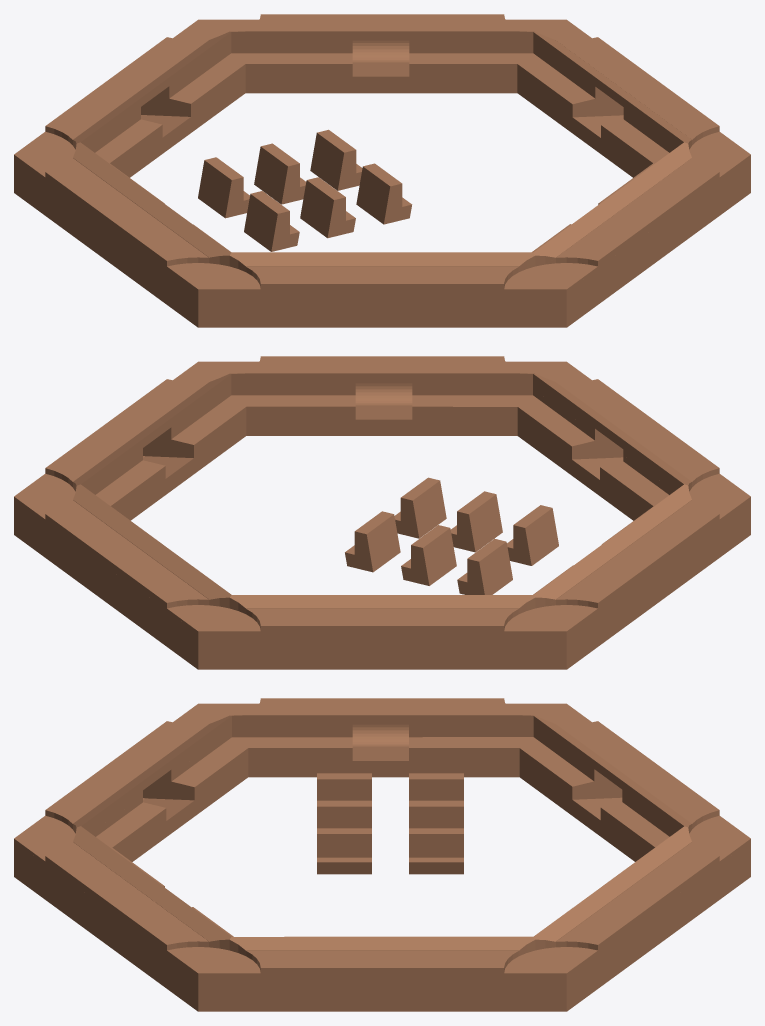
Rendered from base_brick.glb.
3 renders of one model, top to bottom at view 1: azimuth 30°, elevation 25°; view 2: azimuth 150°, elevation 25°; view 3: azimuth 270°, elevation 25°, orthographic.
Visible parts, largest first — view 1: base_brick; view 2: base_brick; view 3: base_brick.
Part boxes in pixels (<box>): base_brick: <box>14,14,750,327</box>; base_brick: <box>14,356,750,669</box>; base_brick: <box>14,698,750,1011</box>.
Bounding box in the file's own units: 79 × 6.95 × 91.22.
